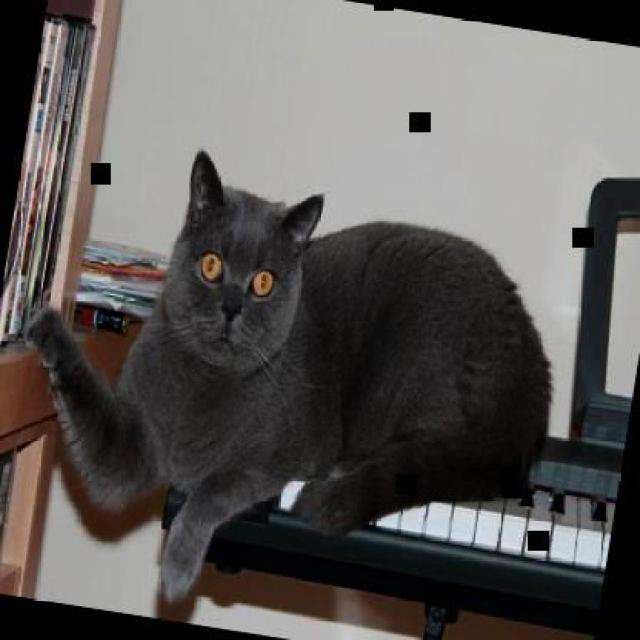cat: (0, 123, 583, 639)
